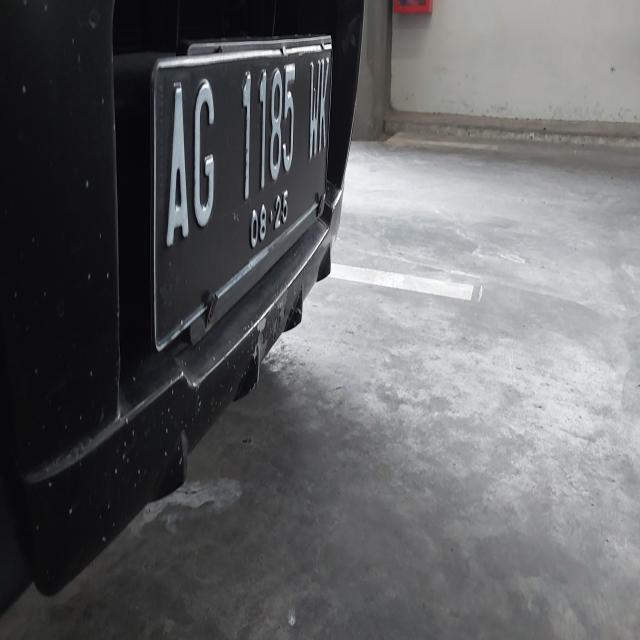1: (238, 66, 252, 206), (255, 62, 269, 196)
5: (284, 61, 296, 180)
8: (270, 64, 284, 188)
A: (164, 80, 192, 248)
G: (192, 78, 216, 231)
K: (320, 57, 330, 152)
W: (307, 59, 320, 158)
